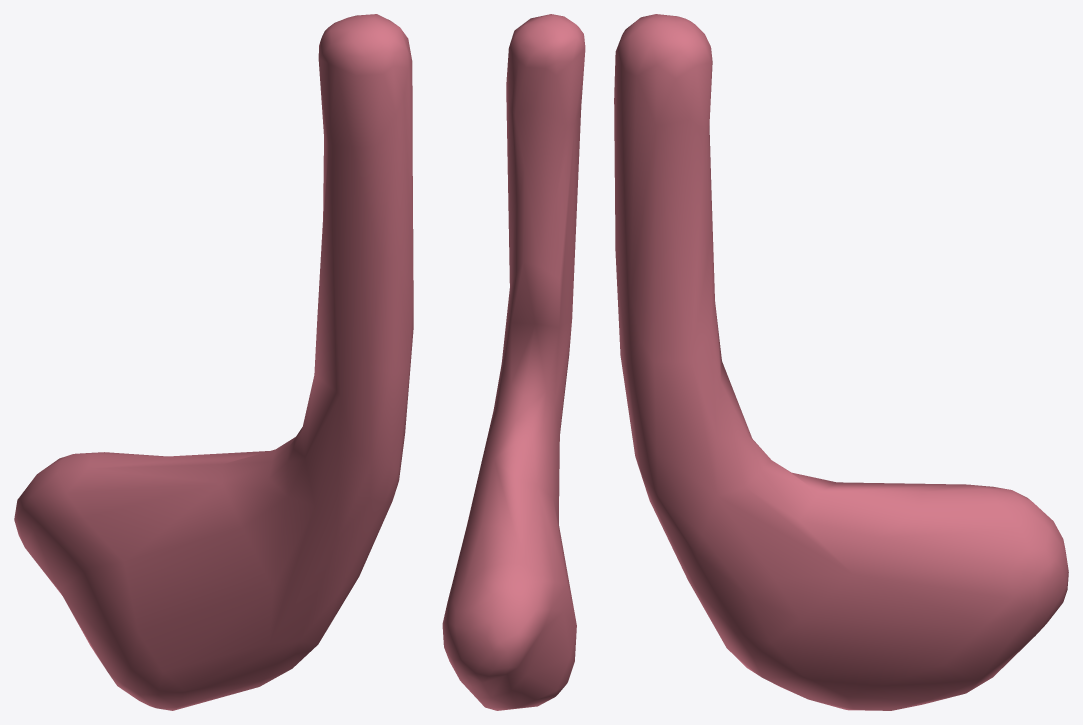
Rendered from Nasolacrimal_duct_left.glb.
3 views of the same model, side by side, from view 1: azimuth 30°, elevation 25°; view 2: azimuth 150°, elevation 25°; view 3: azimuth 270°, elevation 25° (orthographic). The views are drawn at different scales.
Parts seen in each view (by area): view 1: Nasolacrimal_duct.l_grp1.064; view 2: Nasolacrimal_duct.l_grp1.064; view 3: Nasolacrimal_duct.l_grp1.064.
Boxes of the visible parts, left/top/right/bottom form: Nasolacrimal_duct.l_grp1.064: left=14, top=14, right=413, bottom=710; Nasolacrimal_duct.l_grp1.064: left=442, top=14, right=585, bottom=710; Nasolacrimal_duct.l_grp1.064: left=614, top=14, right=1068, bottom=710.
Bounding box in the file's own units: 0.00598 × 0.0206 × 0.0116.
